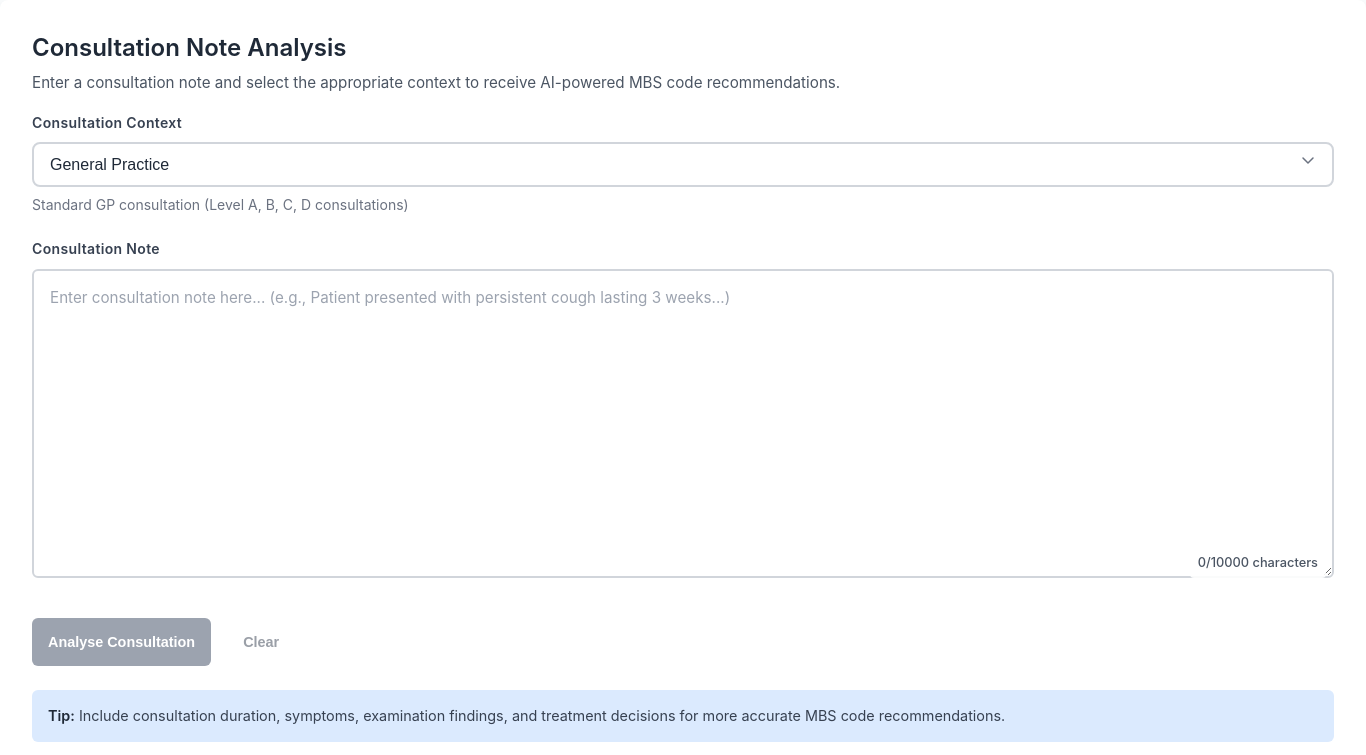
Test: ConsultationInput › After User Starts Typing › should remove validation error when input becomes valid
This screenshot has width=1366, height=755.
# First type short text to trigger validation
In the text box labelled "Consultation Note": (683, 424) [32,269,1334,578], type "short"
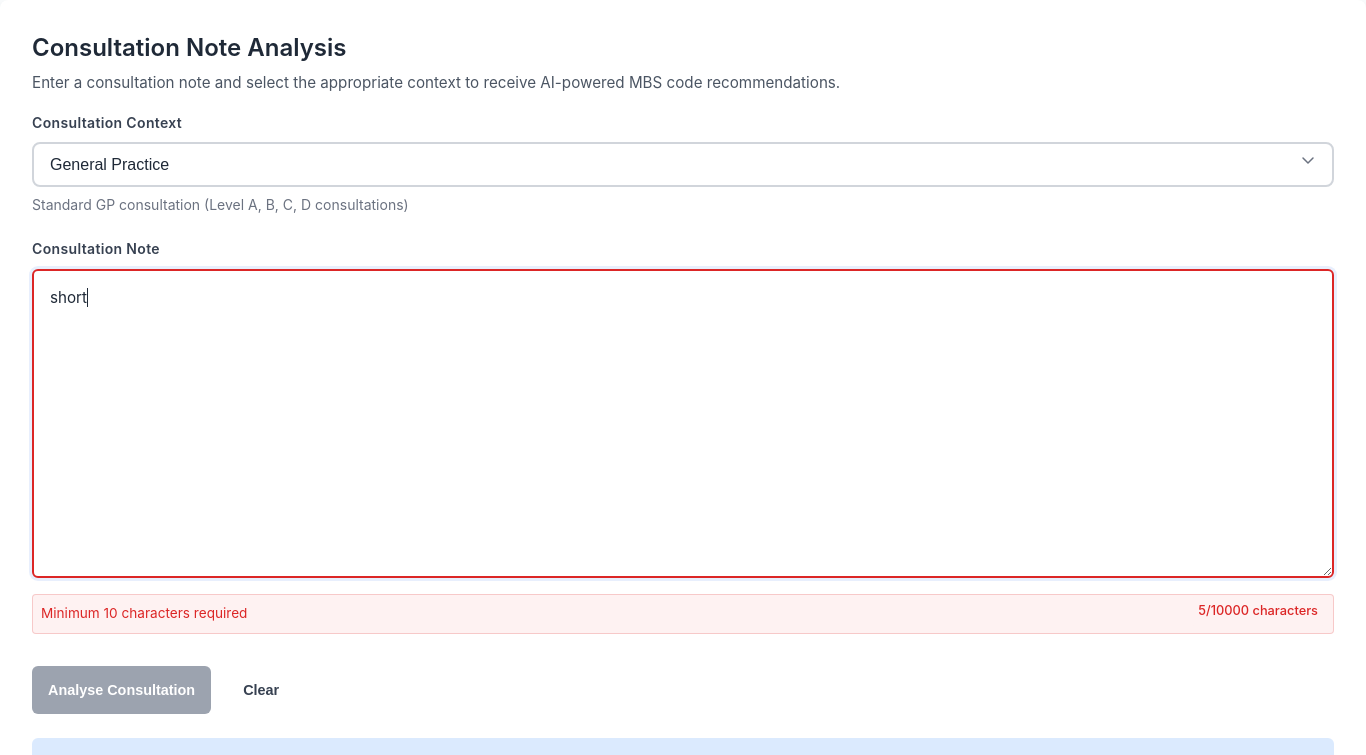
Expected: the text "Minimum 10 characters required" is shown, [32,594,1334,634]
# Then type more text to make it valid
In the text box labelled "Consultation Note": (683, 424) [32,269,1334,578], type " text that is long enough"
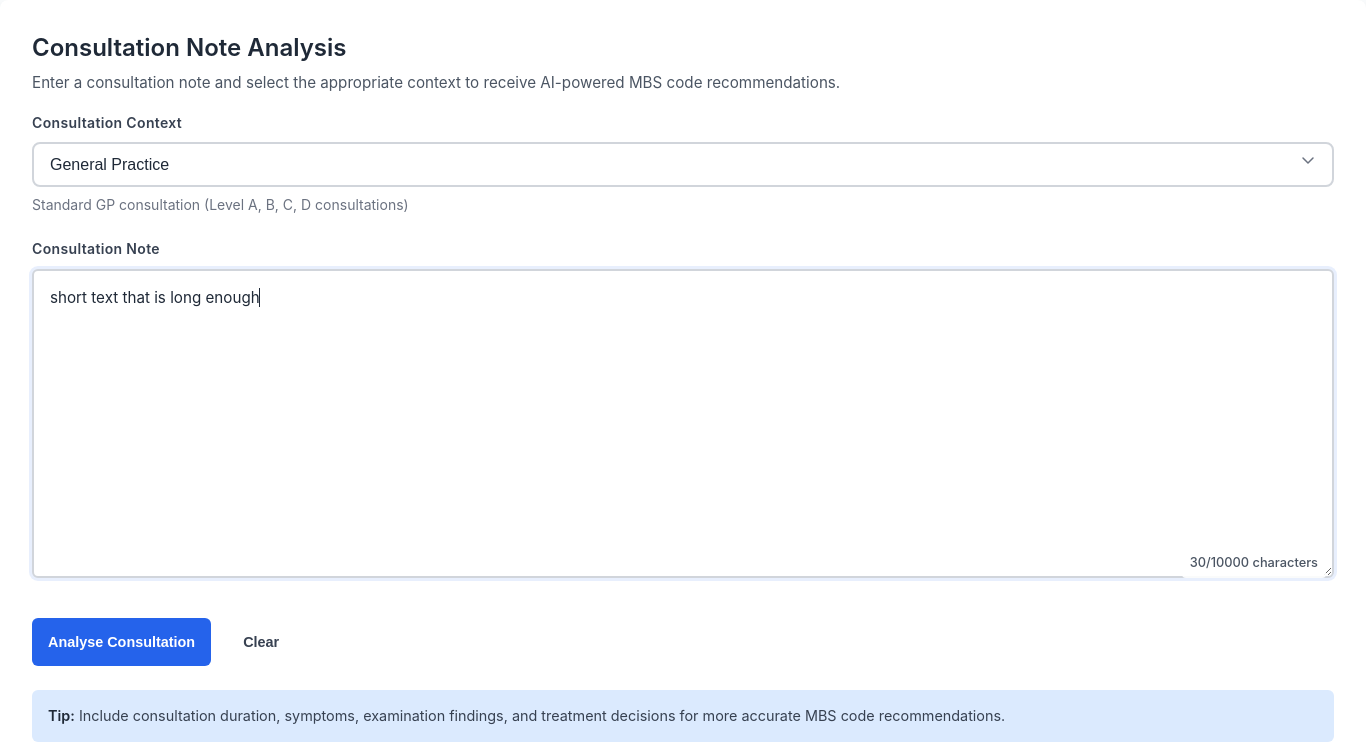
Expected: the text "Minimum 10 characters required" is gone
Expected: the message "Minimum 10 characters required" is gone
